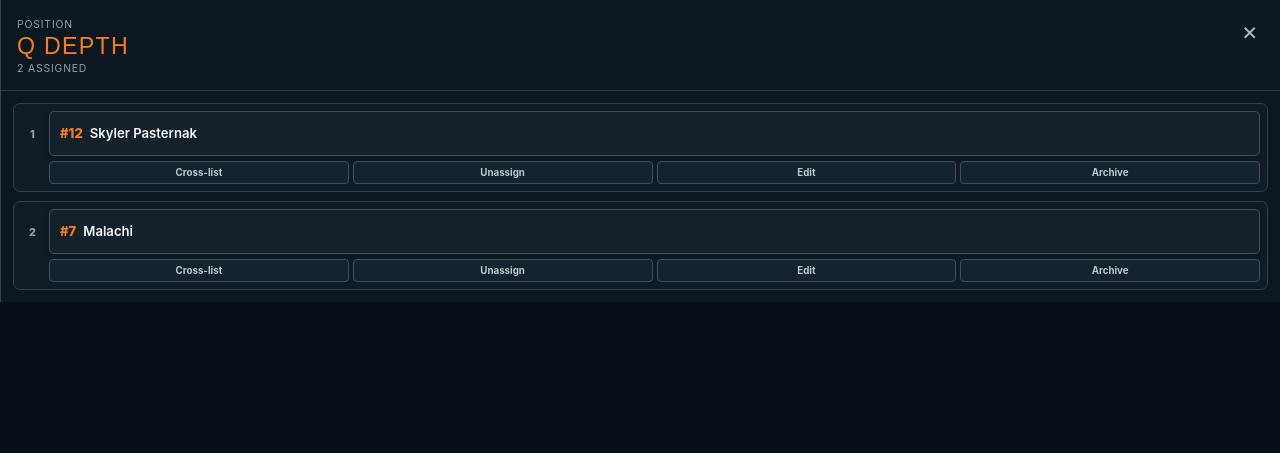
Test: PositionDetailPanel › clears an unfinished cross-list form when the displayed position changes
Click the button with aria-label "Cross-list Skyler Pasternak".
click(199, 172)  # box top-left (49, 161), bottom-right (349, 184)
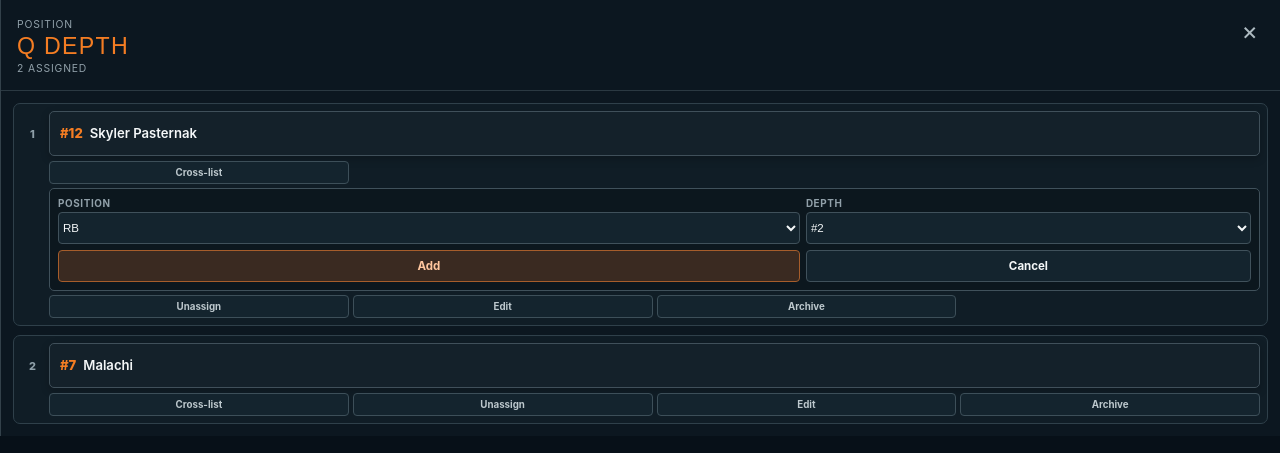
Check: the dropdown named "Cross-list position for Skyler Pasternak" is shown, box top-left (58, 212), bottom-right (800, 244)
